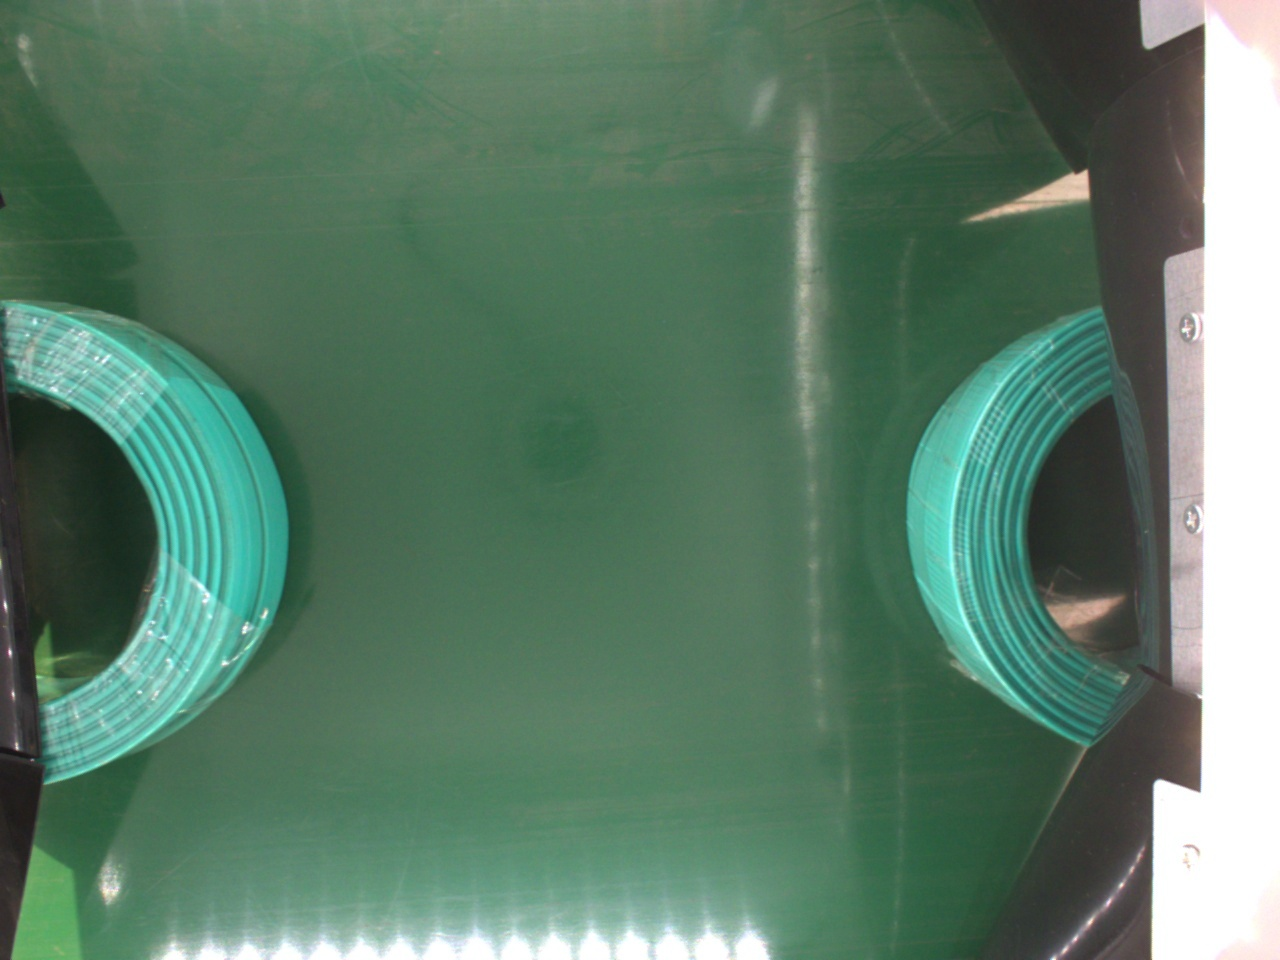green: (1, 298, 289, 789), (909, 308, 1142, 750)
